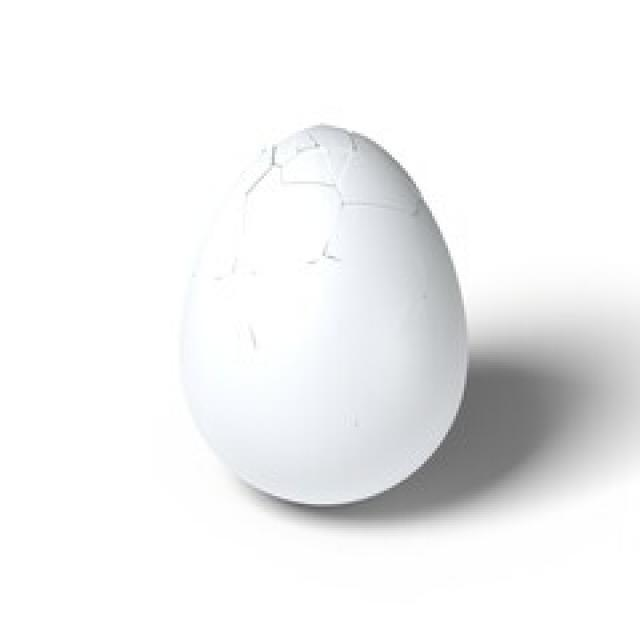biodegradable: (178, 116, 473, 508)
